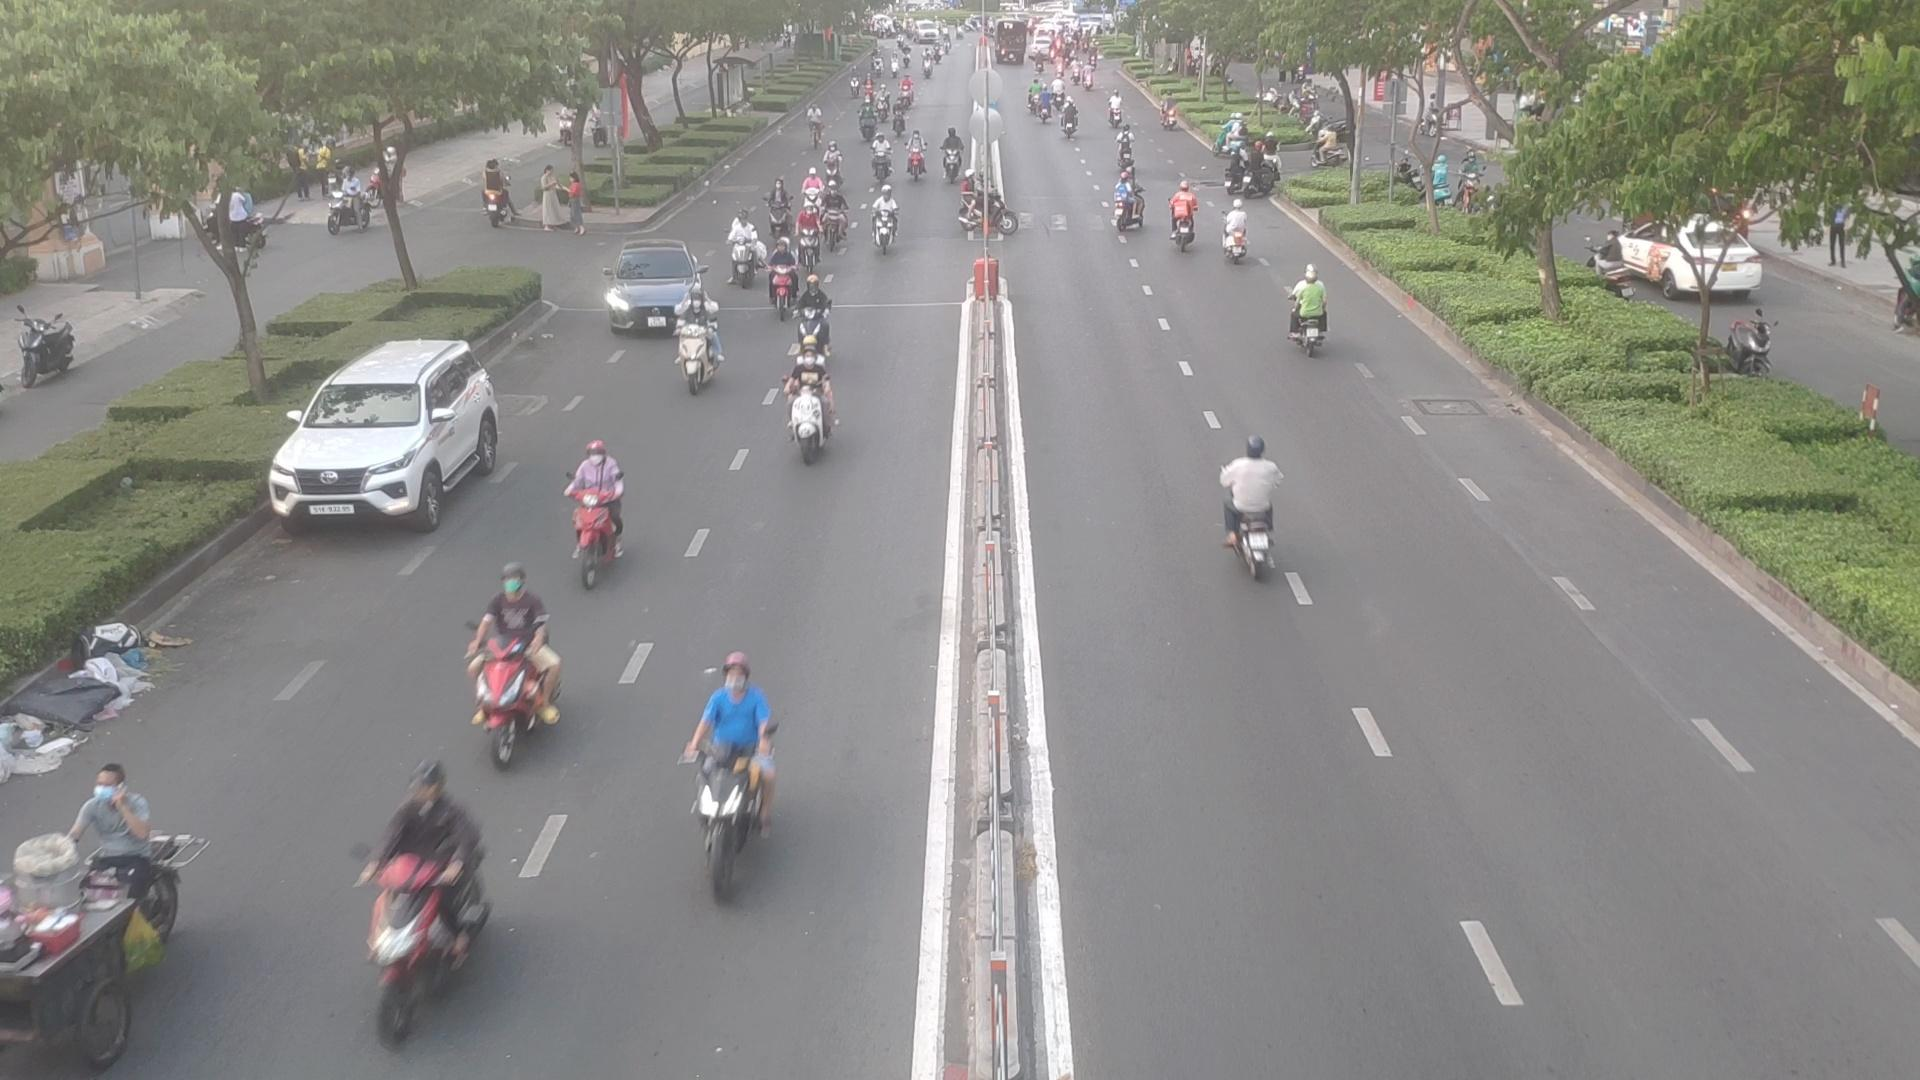car: (272, 340, 517, 531), (597, 247, 713, 338)
motorbike: (361, 783, 493, 1025), (676, 663, 775, 899), (61, 781, 186, 922), (464, 621, 562, 758), (556, 440, 634, 575), (1218, 438, 1291, 574), (775, 355, 847, 467), (671, 306, 735, 394), (1278, 272, 1335, 353), (956, 174, 1013, 233), (761, 243, 804, 315), (717, 218, 761, 284), (1167, 187, 1203, 252), (866, 195, 903, 253), (1112, 178, 1150, 233), (1218, 202, 1251, 262), (761, 175, 794, 229), (793, 208, 820, 272), (819, 198, 852, 251), (819, 138, 851, 190), (939, 129, 963, 181), (907, 138, 934, 183), (868, 133, 894, 175), (800, 173, 822, 220), (1059, 104, 1084, 138)
